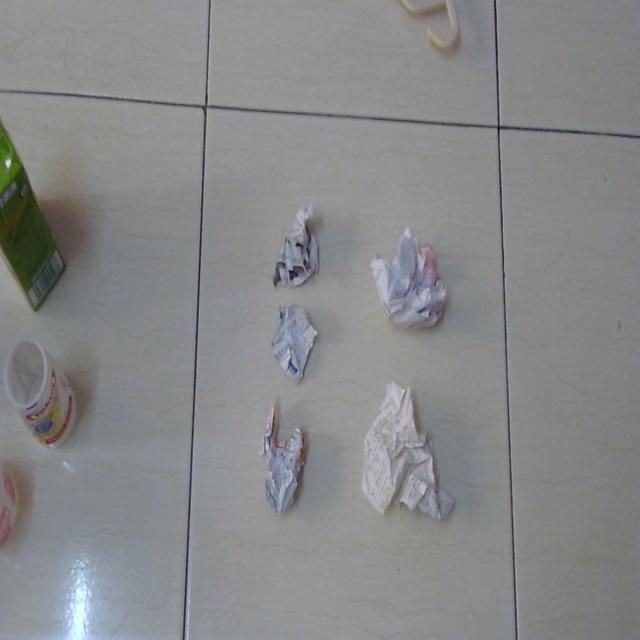paperrotation: (357, 376, 458, 532), (365, 210, 453, 340), (260, 403, 311, 514), (266, 295, 320, 392), (272, 194, 324, 290)
plastic_standrotation: (0, 109, 70, 309), (4, 331, 81, 456)
